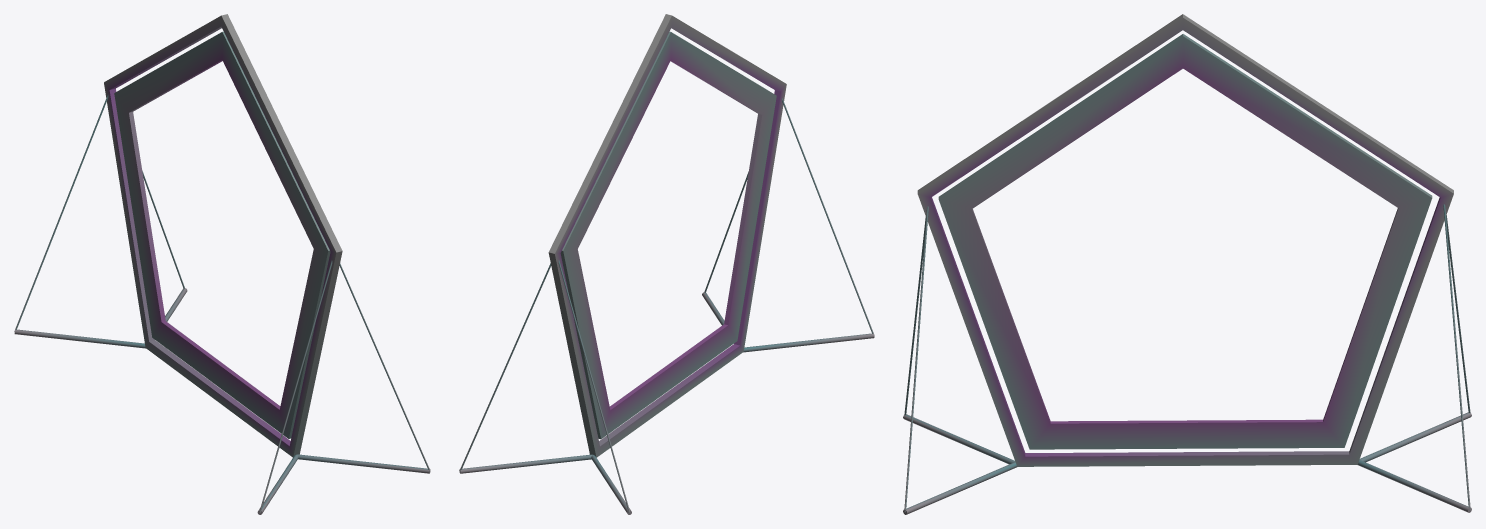
3 renders of one model, left to right at view 1: azimuth 30°, elevation 25°; view 2: azimuth 150°, elevation 25°; view 3: azimuth 270°, elevation 25°, orthographic. The views are drawn at different scales.
Parts seen in each view (by area): view 1: broad_border, outer_strip, ground_rail.002, ground_rail.001, diagonal_stay.003, diagonal_stay.001, diagonal_stay.002; view 2: broad_border, outer_strip, ground_rail, ground_rail.003, diagonal_stay.001, diagonal_stay.003, diagonal_stay; view 3: broad_border, outer_strip, diagonal_stay, diagonal_stay.002, ground_rail, ground_rail.002, ground_rail.001, ground_rail.003.
Boxes of the visible parts, left/top/right/bottom form: broad_border: left=114, top=31, right=330, bottom=438; outer_strip: left=104, top=14, right=342, bottom=457; ground_rail.002: left=297, top=454, right=430, bottom=473; ground_rail.001: left=14, top=329, right=145, bottom=348; diagonal_stay.003: left=259, top=260, right=332, bottom=512; diagonal_stay.001: left=14, top=95, right=108, bottom=331; diagonal_stay.002: left=339, top=263, right=430, bottom=471; broad_border: left=560, top=31, right=776, bottom=439; outer_strip: left=548, top=14, right=786, bottom=457; ground_rail: left=459, top=454, right=592, bottom=473; ground_rail.003: left=743, top=333, right=874, bottom=352; diagonal_stay.001: left=558, top=260, right=630, bottom=512; diagonal_stay.003: left=782, top=98, right=874, bottom=335; diagonal_stay: left=459, top=263, right=551, bottom=471; broad_border: left=938, top=34, right=1432, bottom=449; outer_strip: left=917, top=14, right=1453, bottom=466; diagonal_stay: left=1443, top=204, right=1470, bottom=510; diagonal_stay.002: left=904, top=206, right=928, bottom=512; ground_rail: left=1357, top=460, right=1471, bottom=512; ground_rail.002: left=903, top=462, right=1017, bottom=514; ground_rail.001: left=1359, top=412, right=1471, bottom=462; ground_rail.003: left=903, top=414, right=1015, bottom=464.
Bounding box in the file's own units: 1.22 × 2.64 × 3.02.
